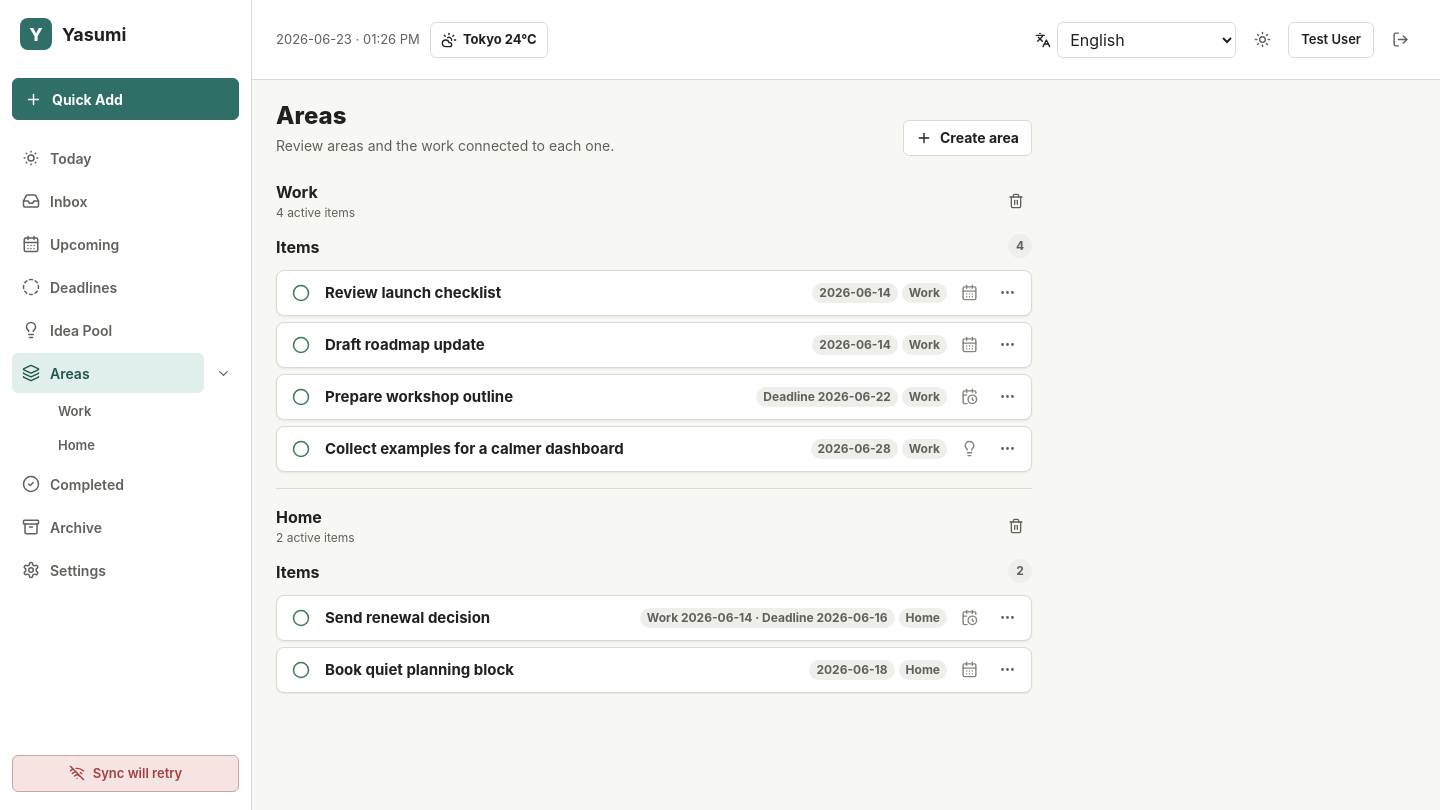
Test: phase 04 pages and action surfaces › creates a new area from the Areas page
Check: the heading "Areas" is shown, box [276, 101, 346, 130]
Click the button "Create area". click: {"x": 967, "y": 138}
box: [903, 120, 1032, 156]
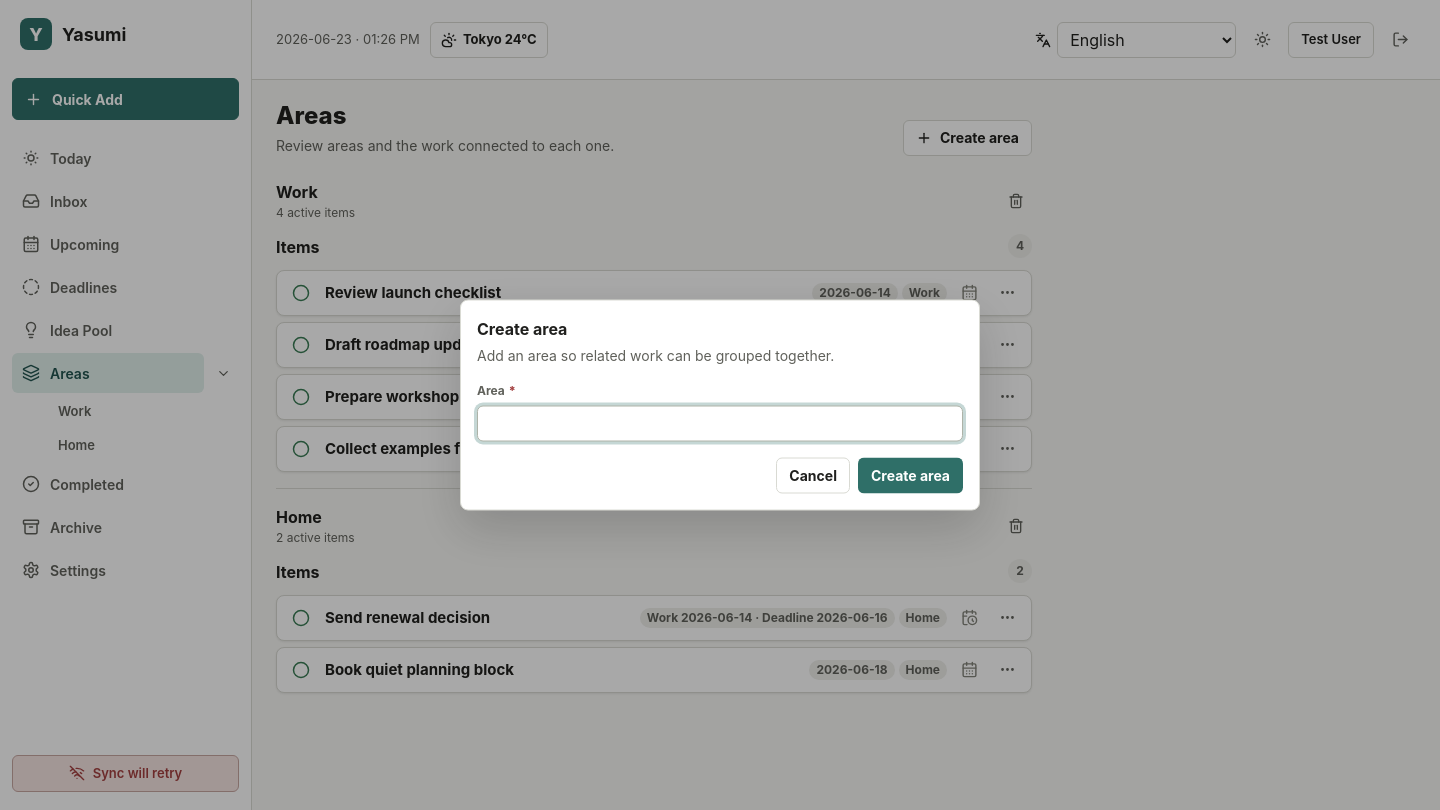
Type "Errands" into the field labelled "Area *". click: {"x": 720, "y": 424}
box: [477, 406, 963, 442]
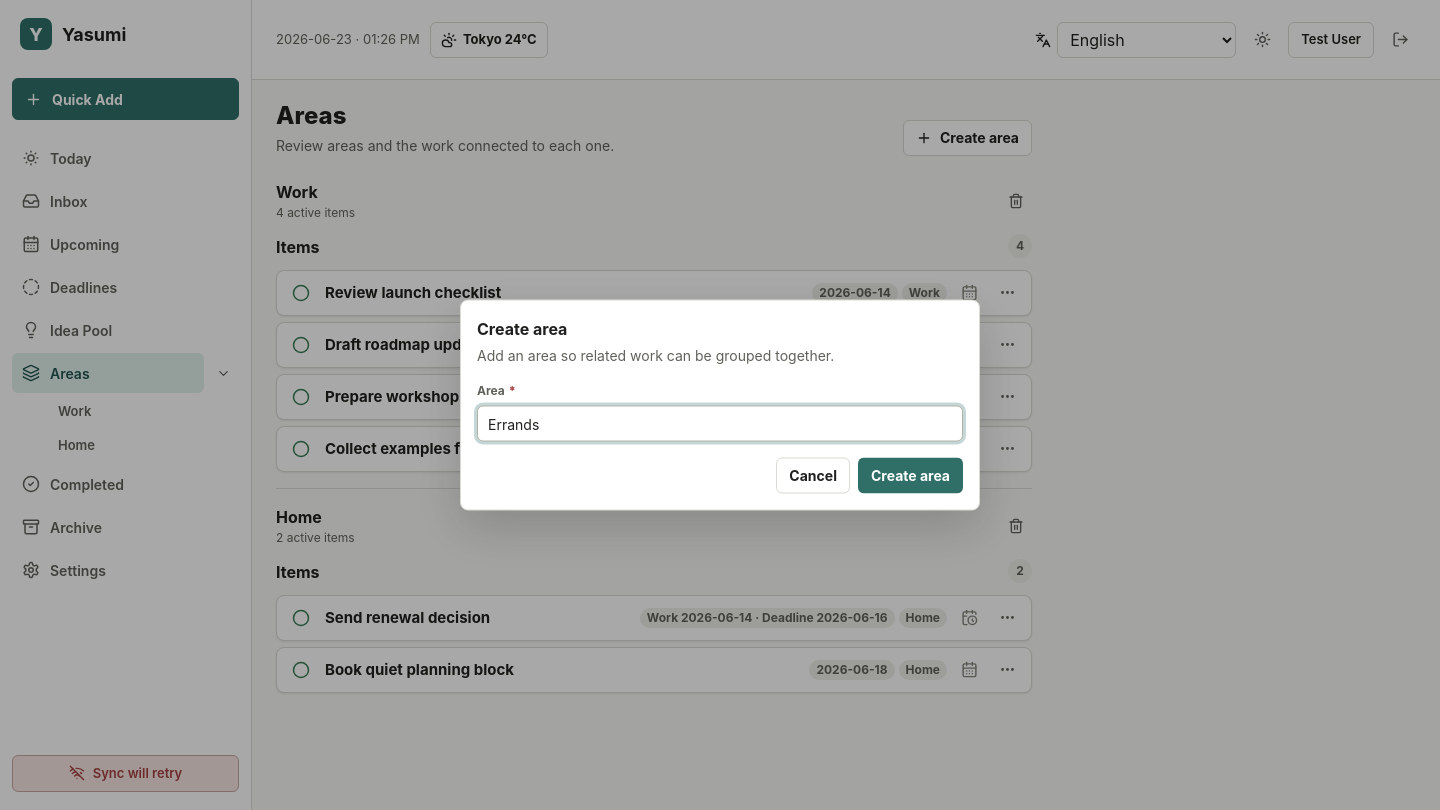
Click the button "Create area". click: {"x": 910, "y": 476}
box: [858, 458, 963, 494]
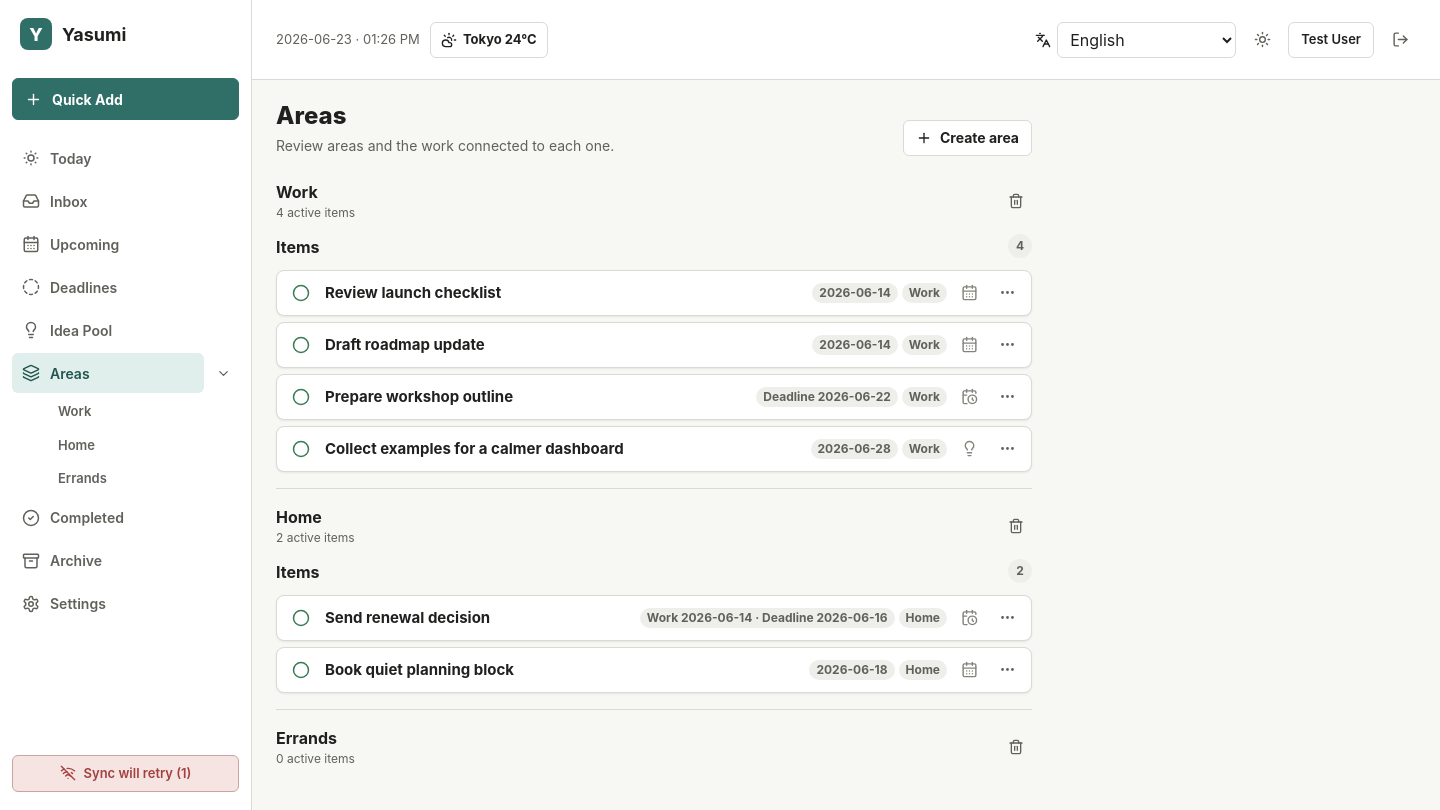
Check: the heading "Errands" is shown, box [276, 728, 337, 748]
